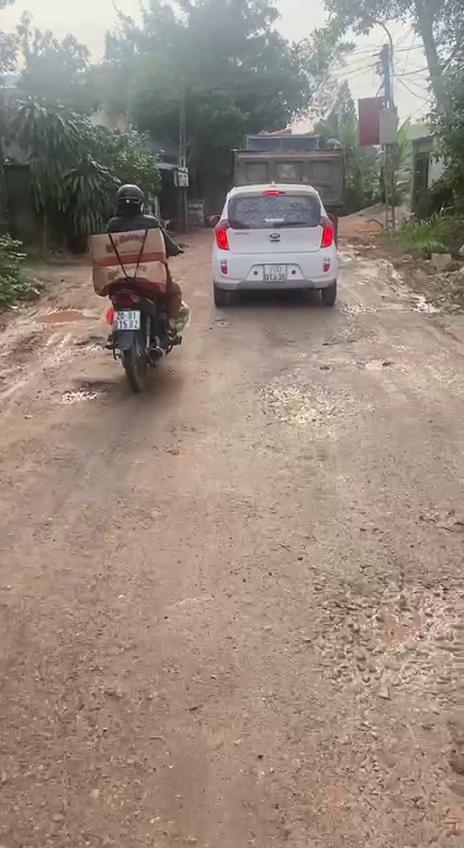pothole: (316, 582, 464, 706)
